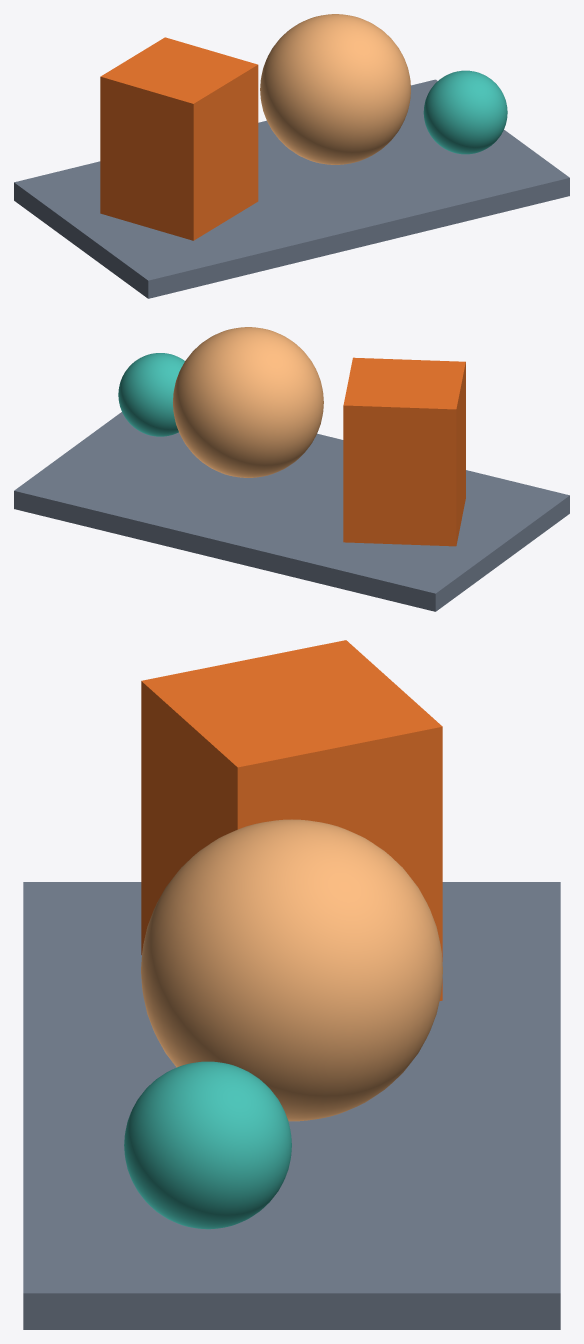
File: Jpeg.gltf
3 renders of one model, top to bottom at view 1: azimuth 30°, elevation 25°; view 2: azimuth 150°, elevation 25°; view 3: azimuth 270°, elevation 25°, orthographic. The views are drawn at different scales.
Visible parts, largest first — view 1: Pedestal, Checker, Copper, Teal; view 2: Pedestal, Checker, Copper, Teal; view 3: Pedestal, Copper, Checker, Teal.
Boxes of the visible parts, <box> form: Pedestal: <box>14,79,569,298</box>; Checker: <box>100,37,258,240</box>; Copper: <box>260,14,410,164</box>; Teal: <box>423,70,507,154</box>; Pedestal: <box>14,412,569,611</box>; Checker: <box>343,357,465,546</box>; Copper: <box>173,327,323,477</box>; Teal: <box>118,353,184,436</box>; Pedestal: <box>23,882,560,1329</box>; Copper: <box>141,819,442,1121</box>; Checker: <box>141,640,442,1000</box>; Teal: <box>124,1061,291,1229</box>.
Bounding box in the file's own units: 5.8 × 2.19 × 3.2.
4 materials, 1 textured.
